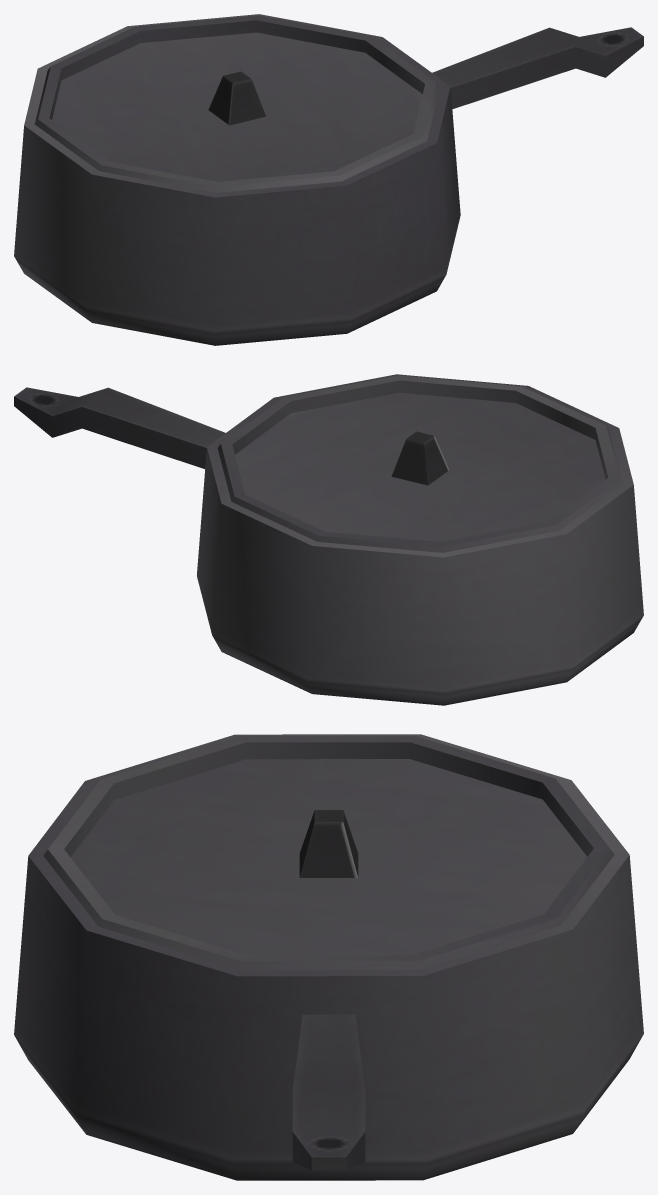
Rendered from Cooker_2.fbx.
The picture shows the model from 3 angles, top to bottom: view 1: azimuth 30°, elevation 25°; view 2: azimuth 150°, elevation 25°; view 3: azimuth 270°, elevation 25°; orthographic projection. The views are drawn at different scales.
Parts seen in each view (by area): view 1: polySurface1543; view 2: polySurface1543; view 3: polySurface1543.
Boxes of the visible parts, x1,y1,x2,y2 form: polySurface1543: (14,14,643,345); polySurface1543: (14,374,643,705); polySurface1543: (14,734,643,1180).
Size of the model in its own units: 0.6233 by 0.1788 by 0.419.
